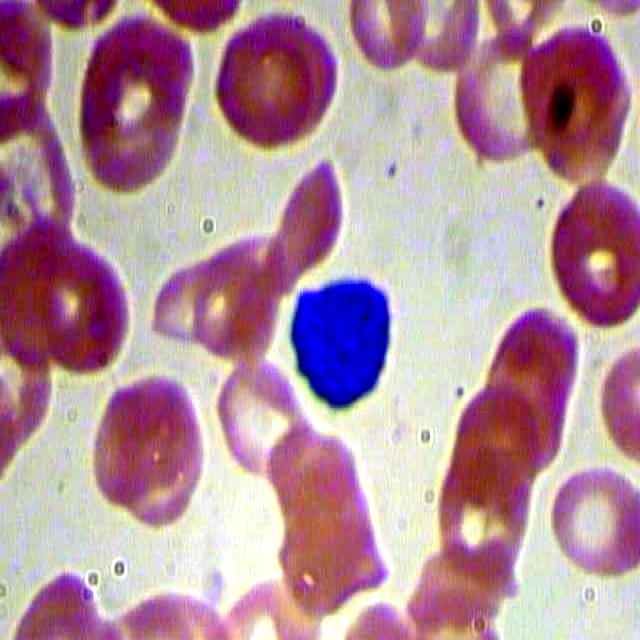RBC: (515, 21, 636, 187), (541, 449, 640, 603), (541, 184, 640, 337), (452, 24, 551, 177), (429, 444, 534, 581), (213, 21, 314, 158), (86, 378, 187, 514), (43, 240, 144, 376), (84, 56, 185, 192), (184, 233, 282, 360), (210, 355, 308, 481), (265, 152, 344, 297)
WBC: (279, 269, 403, 411)
